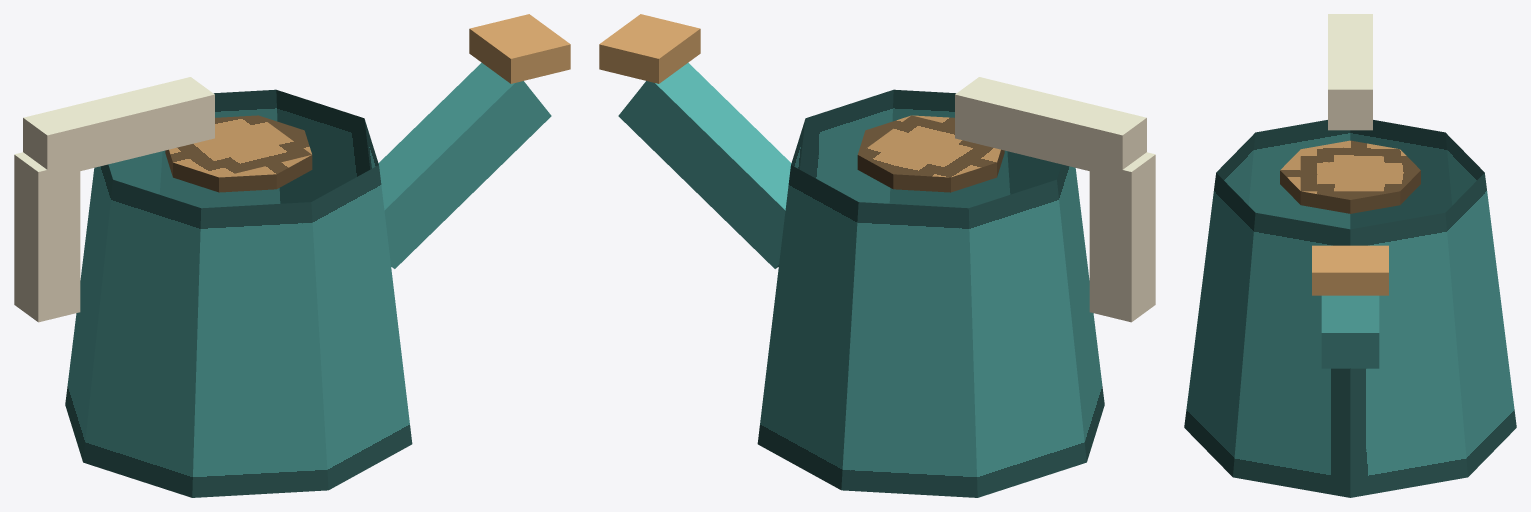
Rendered from WateringCan.obj.
3 renders of one model, left to right at view 1: azimuth 30°, elevation 25°; view 2: azimuth 150°, elevation 25°; view 3: azimuth 270°, elevation 25°, orthographic. The views are drawn at different scales.
Parts seen in each view (by area): view 1: WateringCan; view 2: WateringCan; view 3: WateringCan.
Part boxes in pixels (left/top/right/bottom): WateringCan: left=14, top=14, right=570, bottom=497; WateringCan: left=599, top=14, right=1155, bottom=497; WateringCan: left=1184, top=14, right=1516, bottom=497.
Size of the model in its own units: 0.4375 by 0.2775 by 0.26.
1 material, 1 textured.
